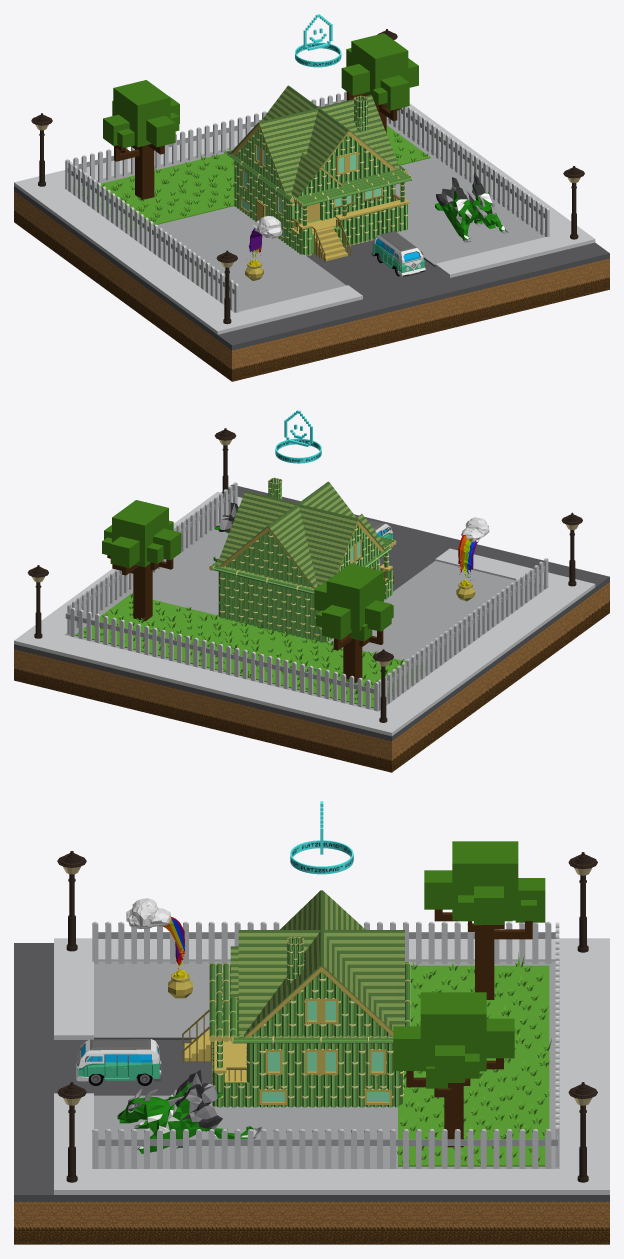
3 renders of one model, top to bottom at view 1: azimuth 30°, elevation 25°; view 2: azimuth 150°, elevation 25°; view 3: azimuth 270°, elevation 25°, orthographic. The views are drawn at different scales.
Parts seen in each view (by area): view 1: Cube.004, Cube.1327, ANIMAL_DRAGON, VEHICLES_VAN, OBJRANDOM_RAINBOW, TYPE_PREMIUM; view 2: Cube.004, Cube.1327, OBJRANDOM_RAINBOW, TYPE_PREMIUM; view 3: Cube.004, Cube.1327, ANIMAL_DRAGON, VEHICLES_VAN, OBJRANDOM_RAINBOW, TYPE_PREMIUM.
Part boxes in pixels (x1,y1,x2,y2): Cube.004: [14, 29, 609, 381]; Cube.1327: [225, 85, 412, 262]; ANIMAL_DRAGON: [435, 172, 508, 242]; VEHICLES_VAN: [371, 231, 425, 276]; OBJRANDOM_RAINBOW: [245, 216, 282, 280]; TYPE_PREMIUM: [295, 14, 341, 67]; Cube.004: [14, 428, 609, 772]; Cube.1327: [209, 477, 396, 642]; OBJRANDOM_RAINBOW: [456, 517, 489, 601]; TYPE_PREMIUM: [275, 410, 321, 463]; Cube.004: [14, 841, 609, 1244]; Cube.1327: [182, 890, 411, 1107]; ANIMAL_DRAGON: [117, 1069, 261, 1154]; VEHICLES_VAN: [76, 1039, 161, 1085]; OBJRANDOM_RAINBOW: [126, 898, 192, 998]; TYPE_PREMIUM: [290, 801, 353, 874].
Bounding box in the file's own units: 4000 × 2475 × 4000.
39 materials, 5 textured.
